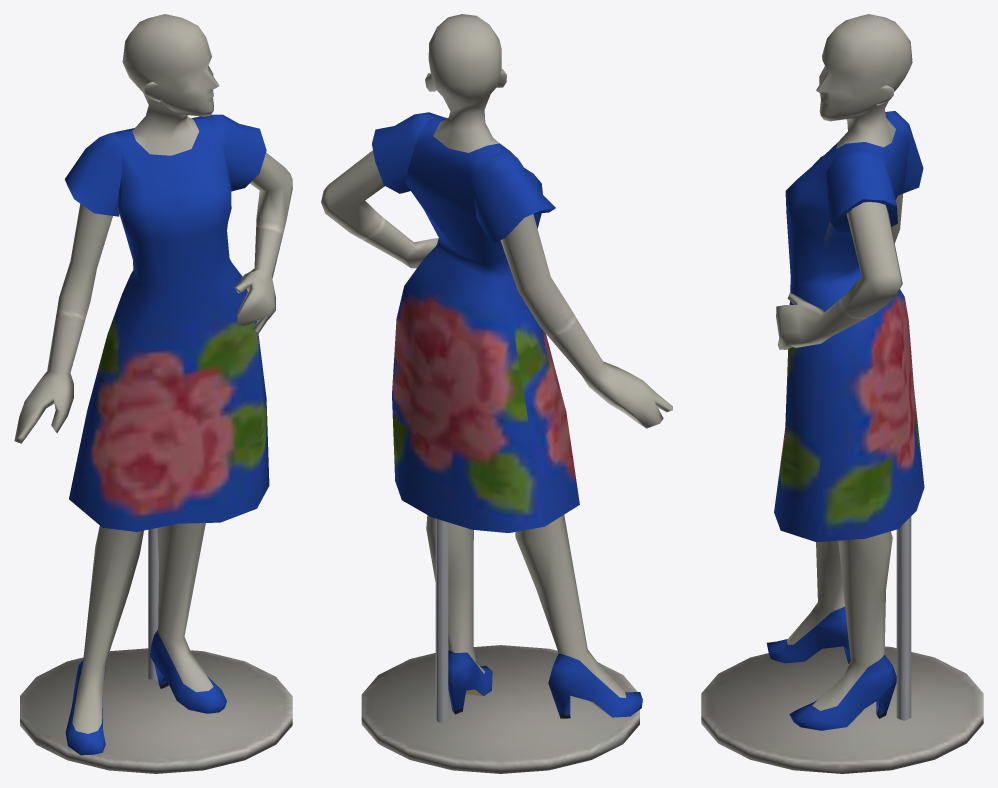
3 views of the same model, side by side, from view 1: azimuth 30°, elevation 25°; view 2: azimuth 150°, elevation 25°; view 3: azimuth 270°, elevation 25° (orthographic). The views are drawn at different scales.
Size of the model in its own units: 9.2 by 19.45 by 7.05.
2 materials, 2 textured.
